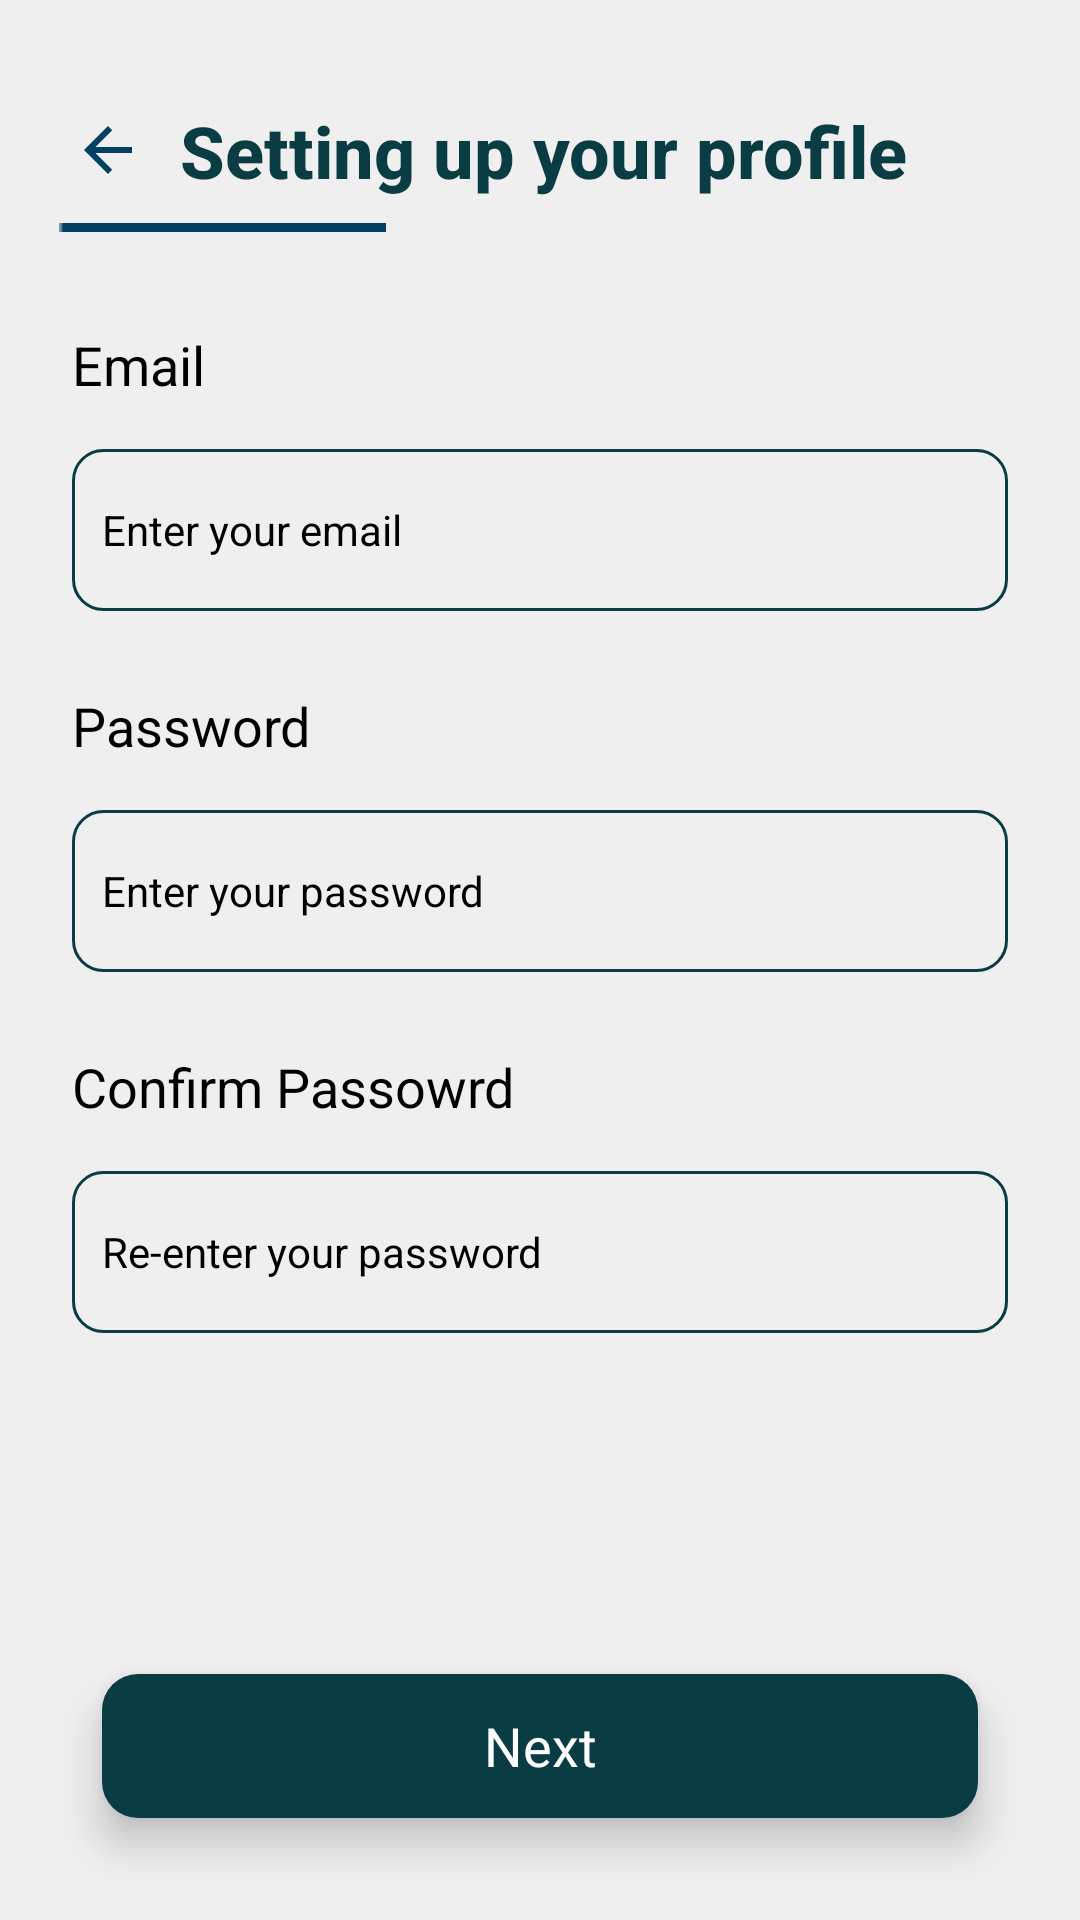

Screen size 1080px×1920px. Icon name, then its center in pixels as (x,y):
back: (108,150)
